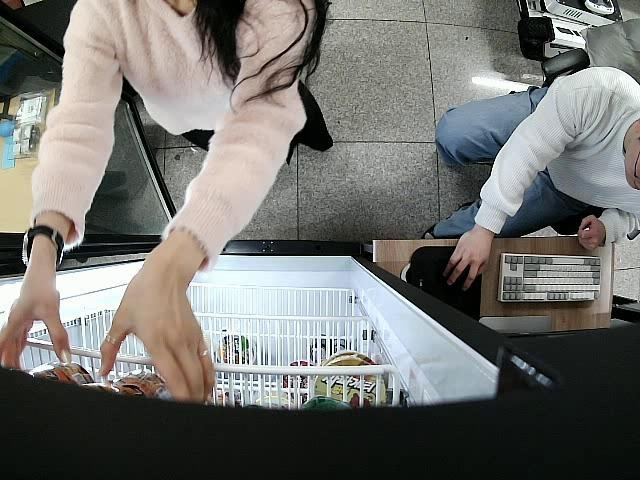06_nuguri_S: (95, 370, 178, 406), (24, 360, 93, 387)
